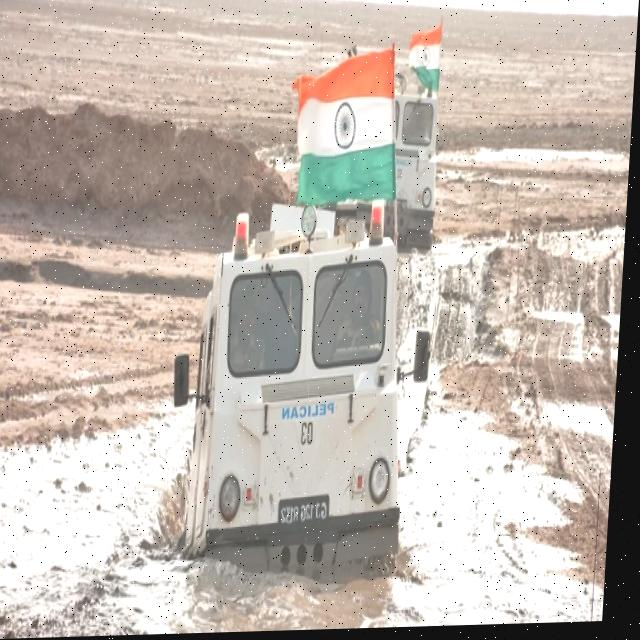plate: (280, 492, 336, 531)
